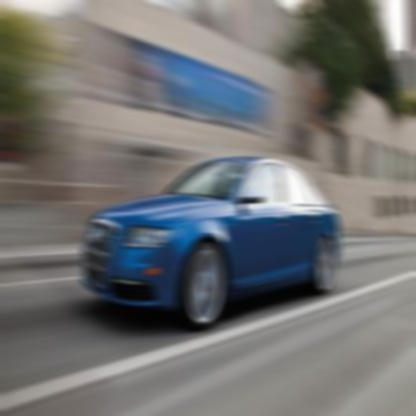Vehicle: (84, 156, 343, 332)
